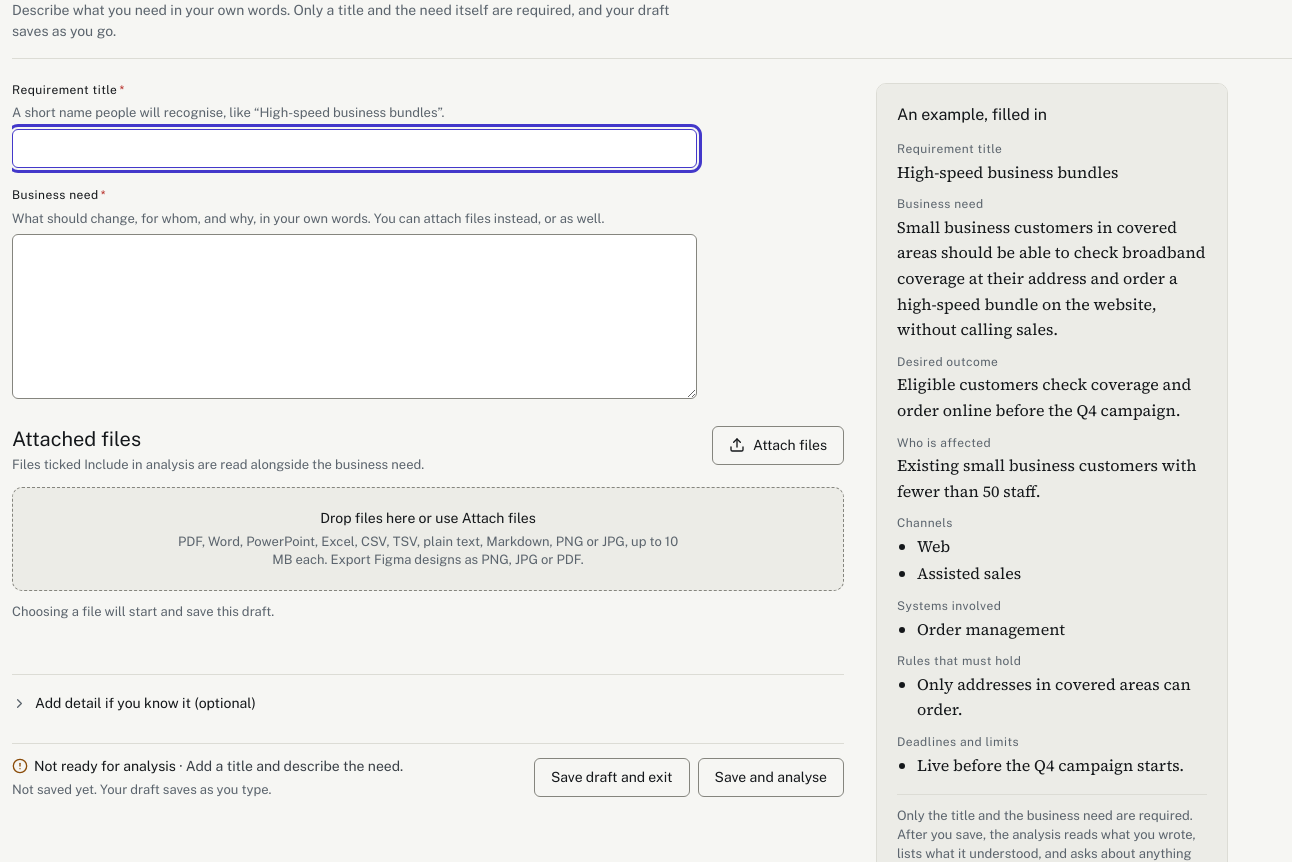
Test: NewRequirementPage › announces an autosave failure and lets the author retry
This screenshot has width=1292, height=862.
Type "Recoverable draft" into the field labelled "Requirement title*" at {"x": 355, "y": 148}, box [12,129,697,168]
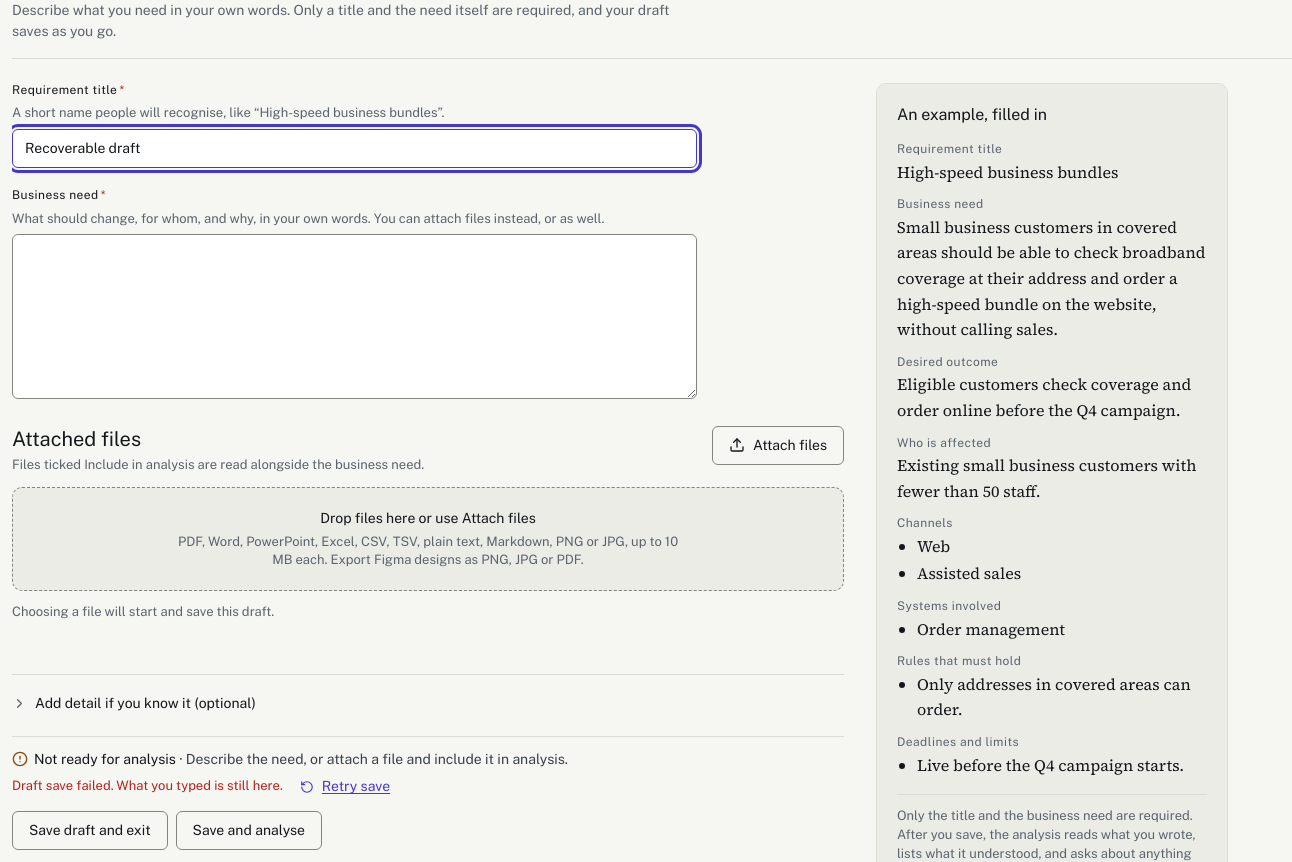
Check: the text "Draft save failed. What you typed is still here." is shown, box [12,777,283,796]
Click the button "Retry save" at {"x": 345, "y": 786}, box [295,774,395,799]
(page scrolled)
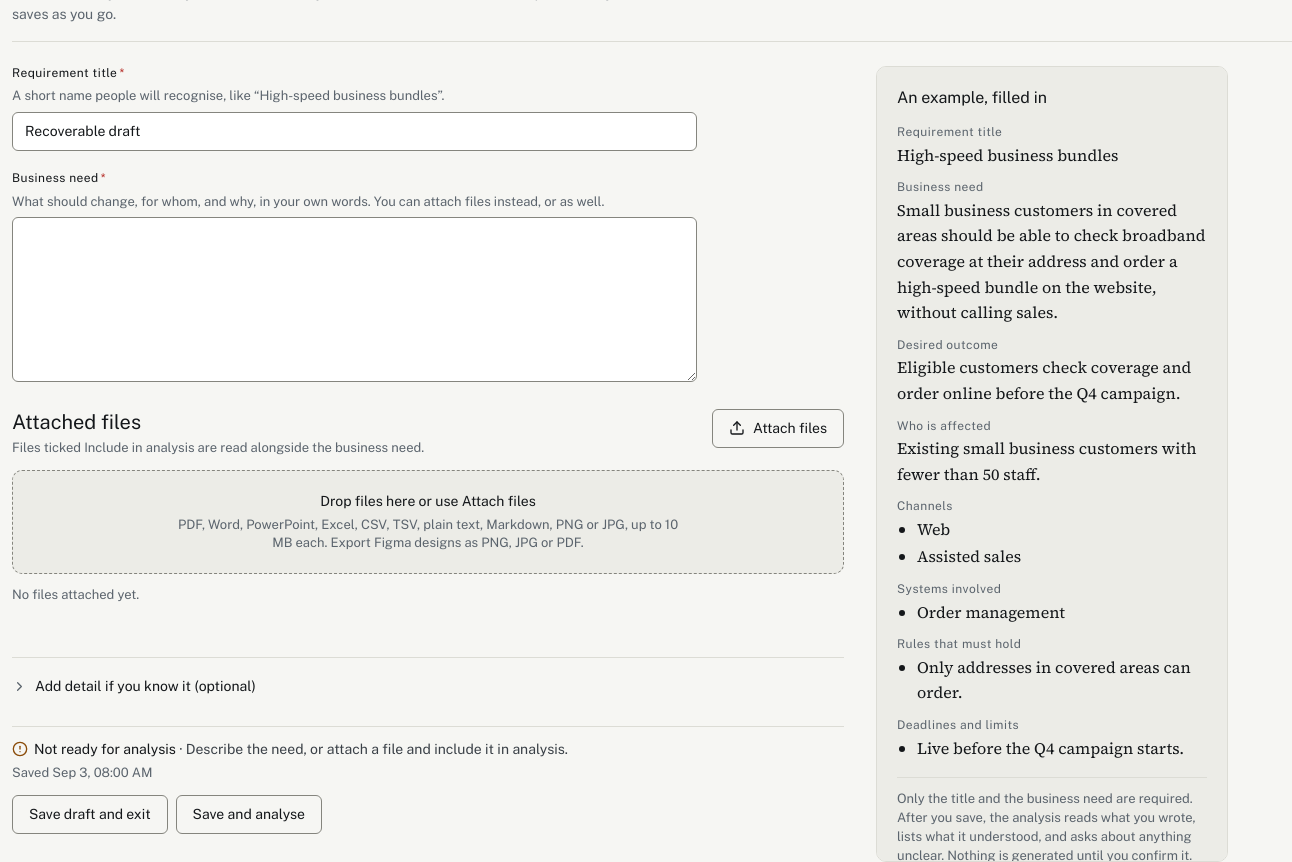
Check: the text "Saved Sep 3, 08:00 AM" is shown, box [12,764,153,783]
